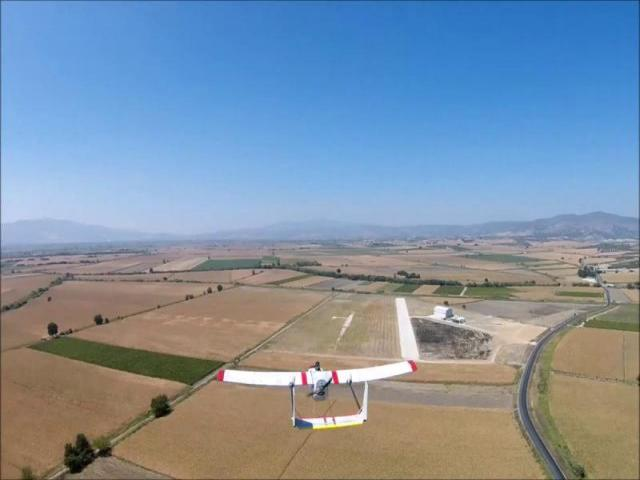hedef: (212, 325, 426, 449)
